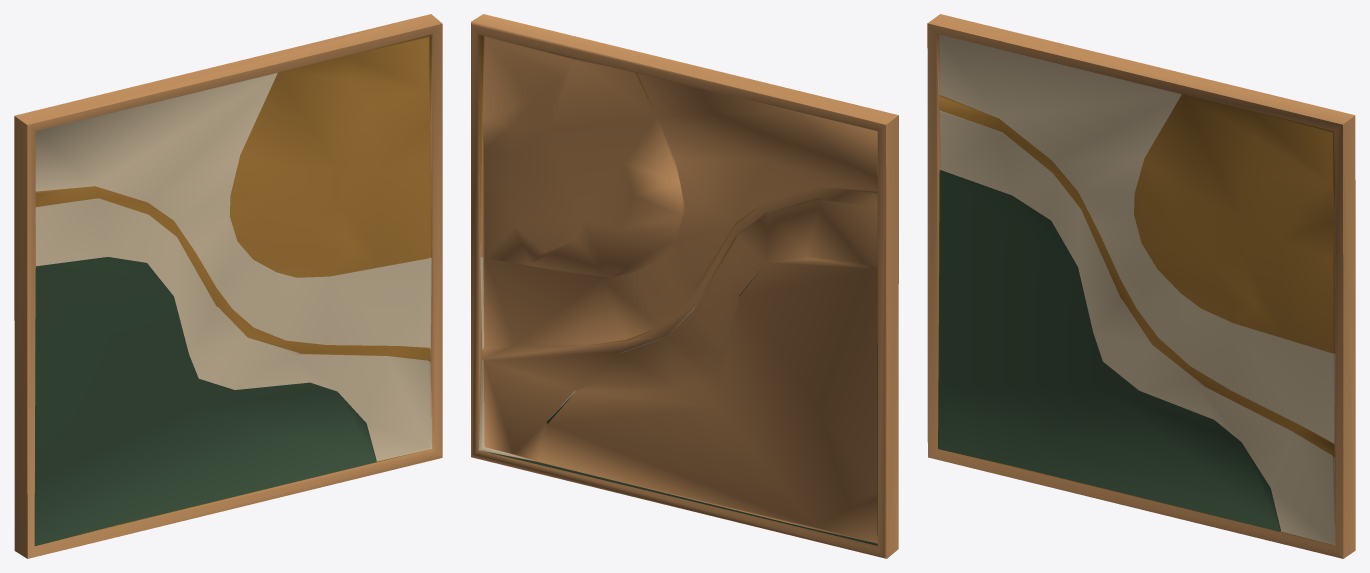
The model's file is GJH_NEW_wall_art.glb.
3 views of the same model, side by side, from view 1: azimuth 30°, elevation 25°; view 2: azimuth 150°, elevation 25°; view 3: azimuth 330°, elevation 25° (orthographic).
Visible parts, largest first — view 1: GJH_NEW_wall_art; view 2: GJH_NEW_wall_art; view 3: GJH_NEW_wall_art.
Part boxes in pixels (box(x1,y1,x2,y2)): GJH_NEW_wall_art: box(14, 14, 442, 558); GJH_NEW_wall_art: box(471, 14, 898, 558); GJH_NEW_wall_art: box(927, 14, 1355, 558).
Size of the model in its own units: 0.9 by 0.9 by 0.05.
